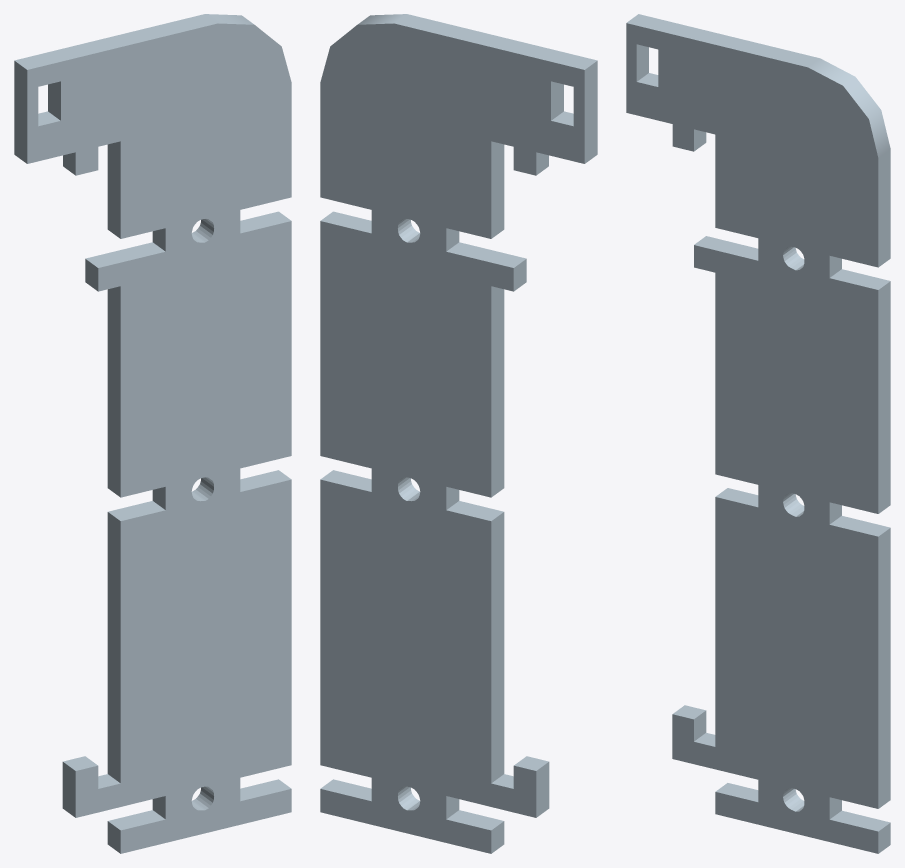
The model's file is prt0007.obj.
The picture shows the model from 3 angles, left to right: view 1: azimuth 30°, elevation 25°; view 2: azimuth 150°, elevation 25°; view 3: azimuth 330°, elevation 25°; orthographic projection. The views are drawn at different scales.
Visible parts, largest first — view 1: 1; view 2: 1; view 3: 1.
Boxes of the visible parts, <box> form: 1: <box>14,14,291,853</box>; 1: <box>320,14,597,853</box>; 1: <box>626,14,890,853</box>.
Size of the model in its own units: 35.34 by 103 by 3.
